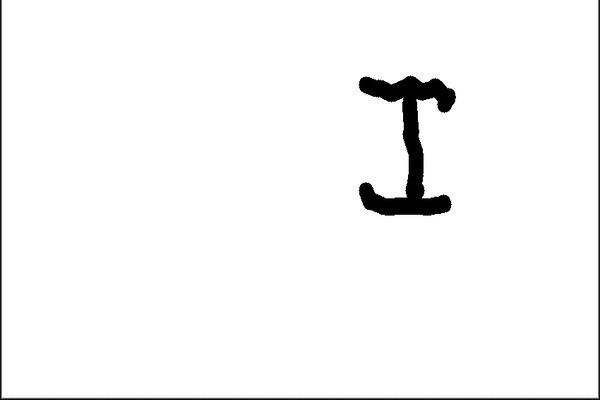i: (342, 61, 466, 227)
